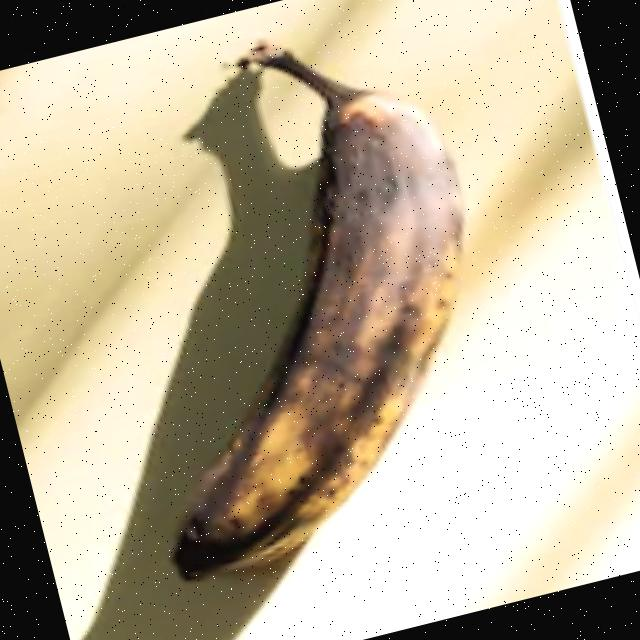Rotten: (44, 0, 563, 612)
